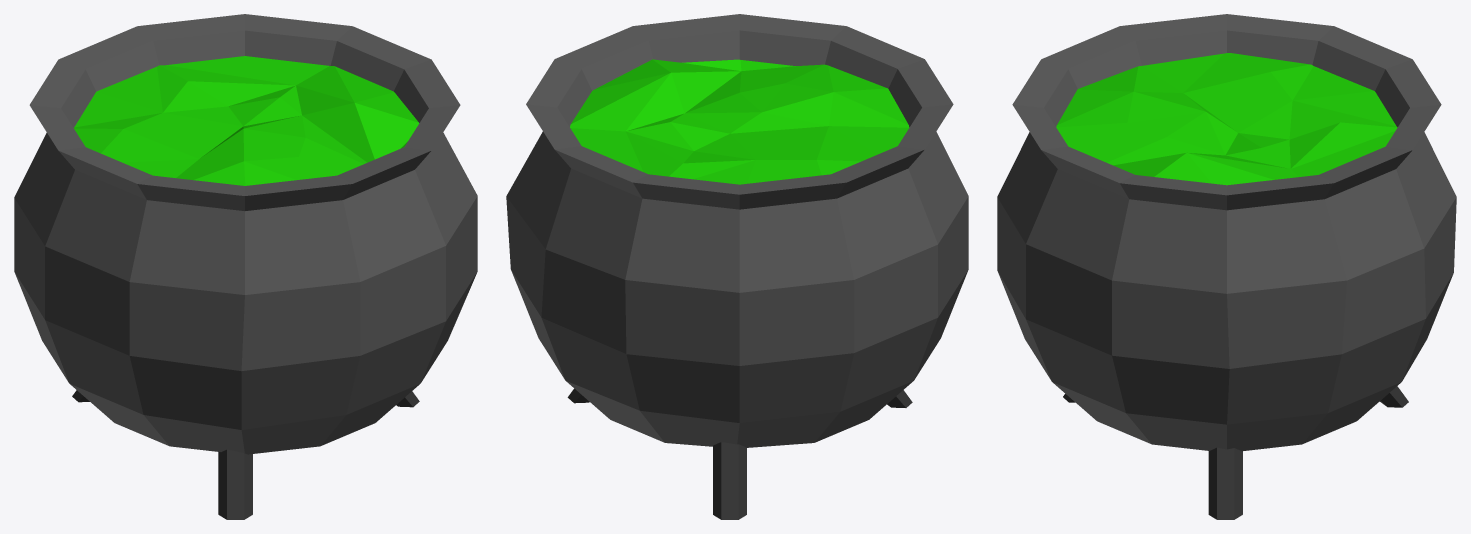
File: pot_1_mat.fbx
3 renders of one model, left to right at view 1: azimuth 30°, elevation 25°; view 2: azimuth 150°, elevation 25°; view 3: azimuth 270°, elevation 25°, orthographic.
Parts seen in each view (by area): view 1: pot_1_mat; view 2: pot_1_mat; view 3: pot_1_mat.
Boxes of the visible parts, x1,y1,x2,y2 form: pot_1_mat: [14, 14, 477, 519]; pot_1_mat: [506, 14, 968, 519]; pot_1_mat: [997, 14, 1456, 519].
Size of the model in its own units: 198 by 157 by 197.
